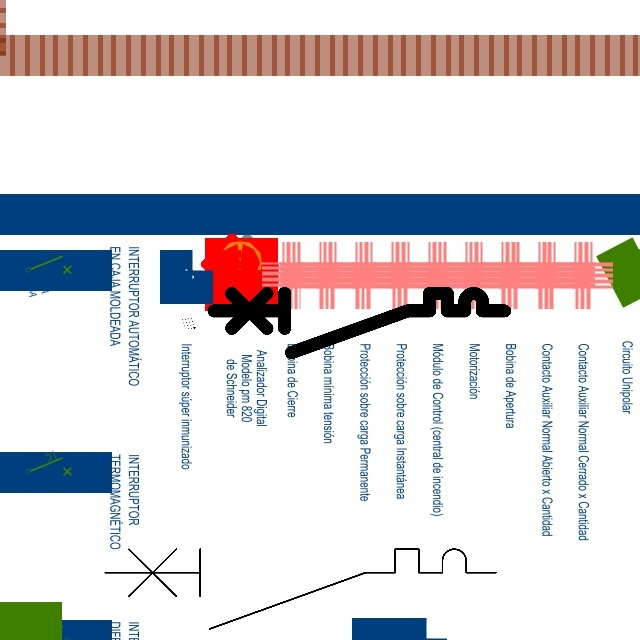interruptor_termomagnetico: (95, 539, 506, 639), (206, 286, 511, 360)
